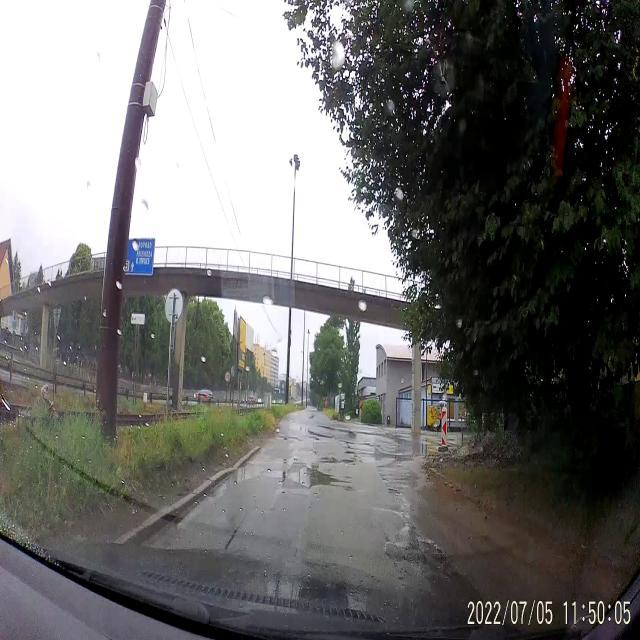Pothole: (282, 463, 344, 492), (318, 452, 356, 466), (388, 482, 400, 500), (286, 436, 304, 446), (308, 434, 318, 442)
